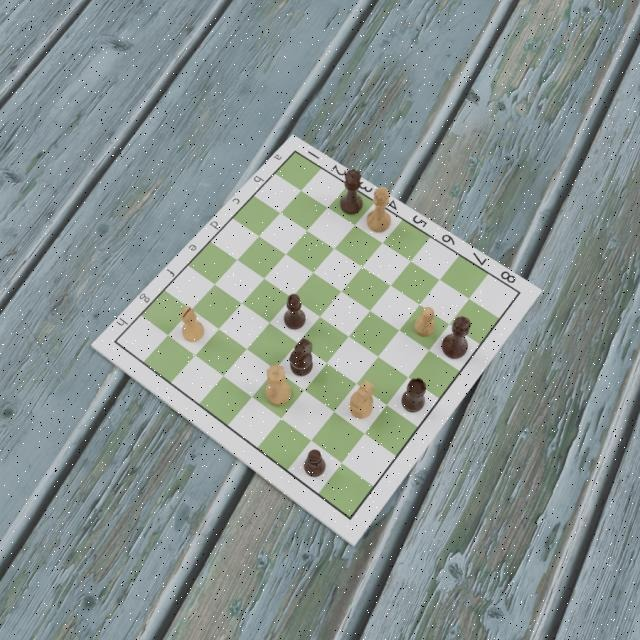black-bishop: (282, 292, 306, 332)
black-king: (440, 315, 471, 361)
black-knight: (289, 337, 315, 378)
black-pawn: (303, 449, 329, 479)
black-queen: (339, 167, 364, 216)
black-rook: (403, 374, 429, 419)
white-bishop: (180, 304, 204, 344)
white-king: (365, 186, 391, 233)
white-knight: (348, 380, 376, 420)
white-pawn: (413, 305, 436, 338)
white-queen: (265, 364, 291, 408)
